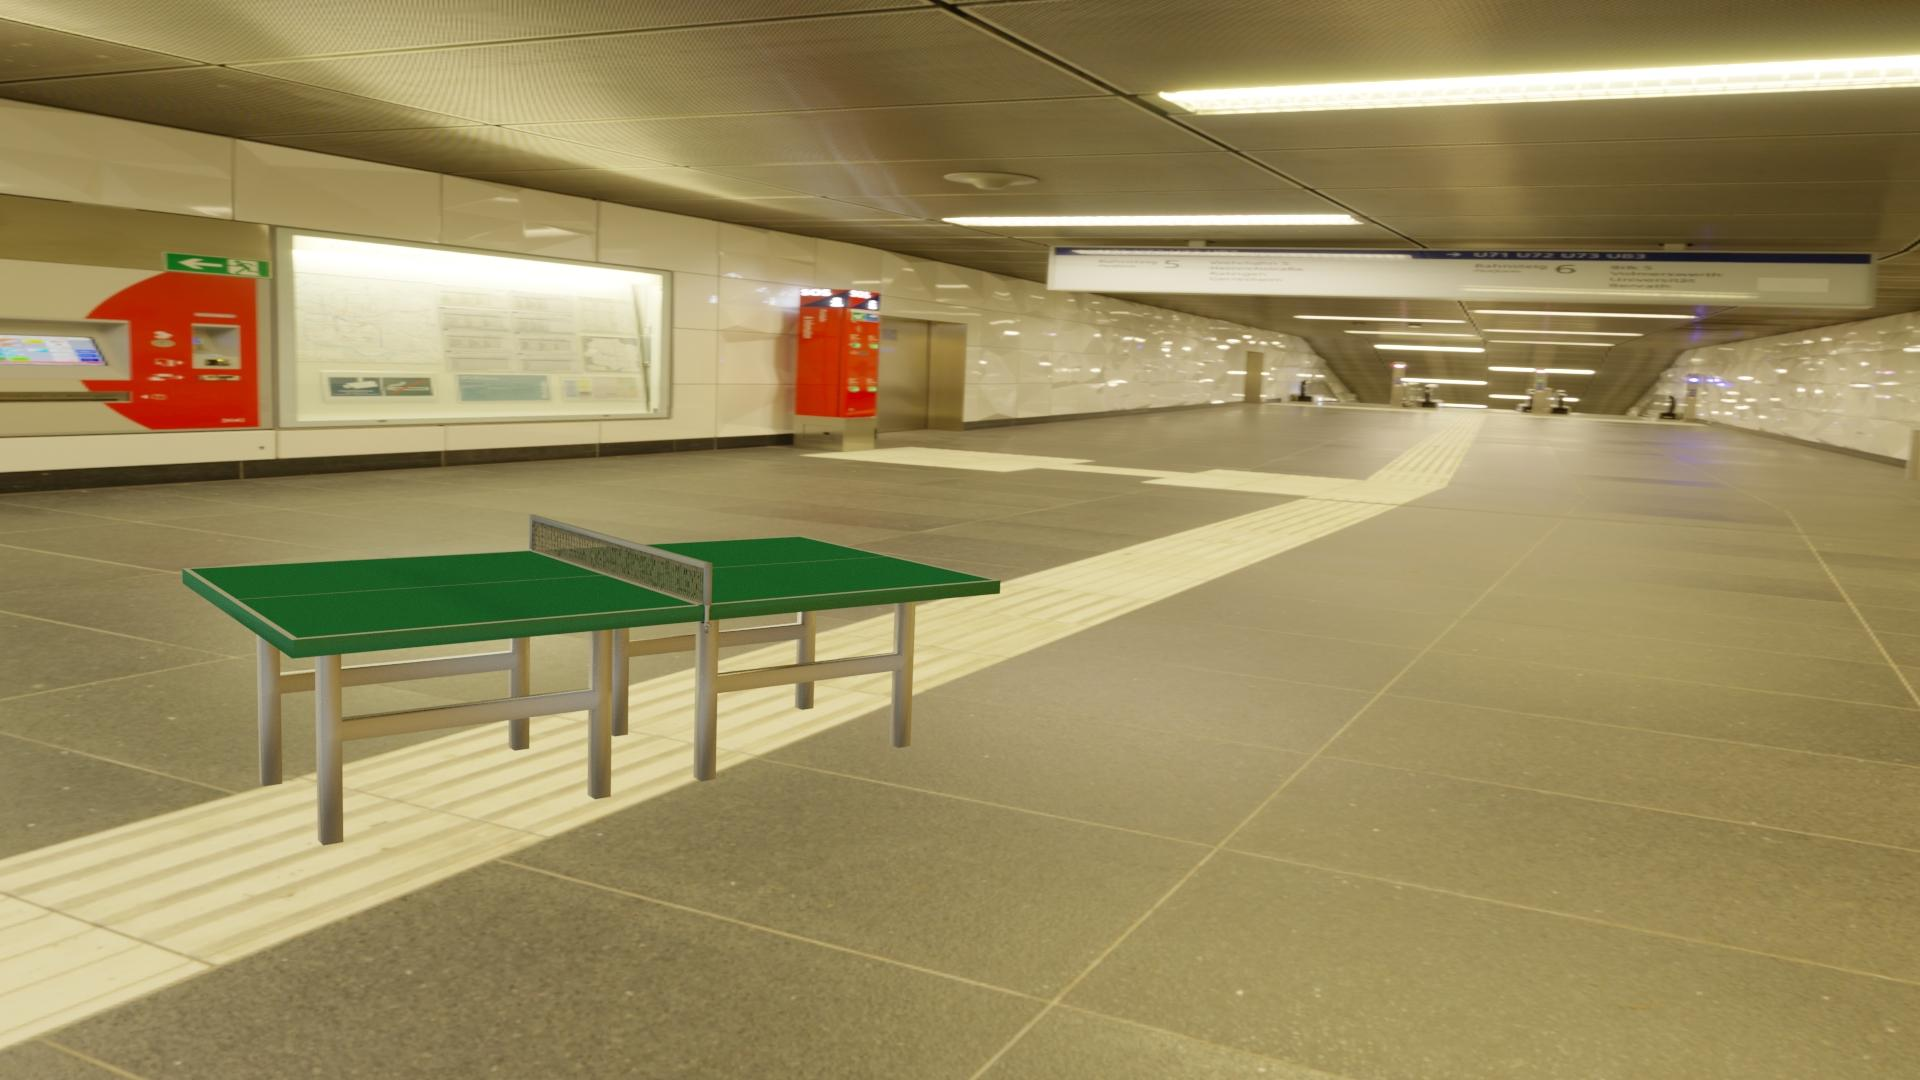table: (190, 537, 994, 638)
